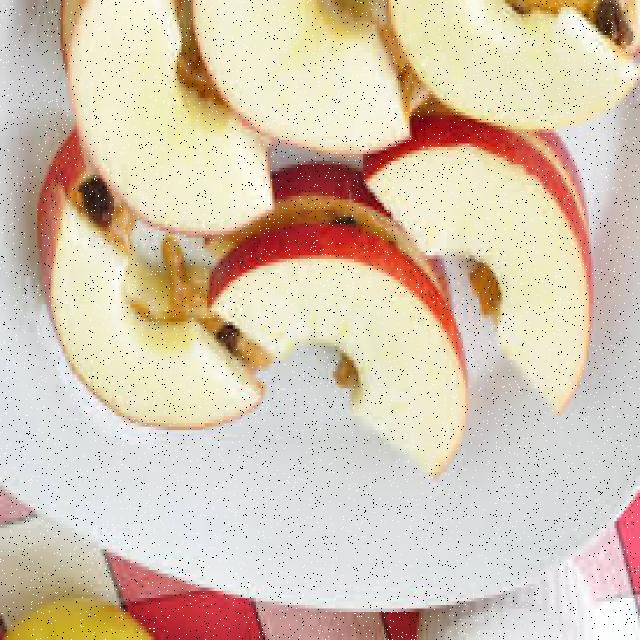Apple: (184, 245, 465, 481), (44, 0, 274, 235), (39, 243, 229, 433), (461, 131, 589, 409), (384, 0, 637, 130)
